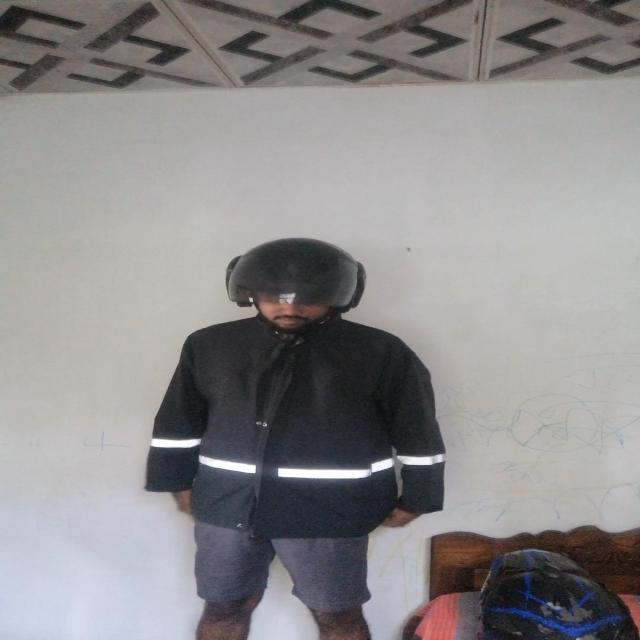Helmet_Wearer: (205, 232, 388, 342)
Jacket_Wearer: (154, 314, 459, 539)
Person: (150, 235, 454, 634)
